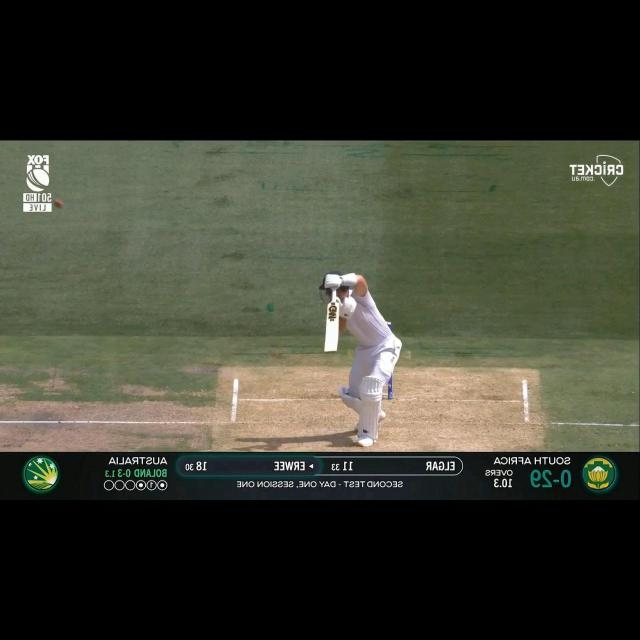bat: (322, 303, 341, 354)
toe: (323, 344, 340, 355)
